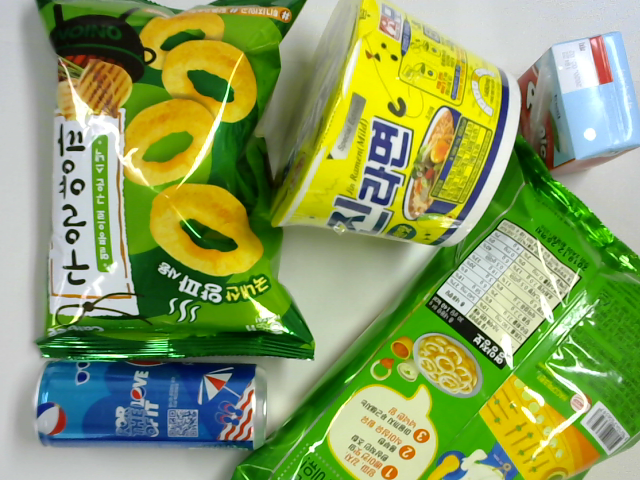Grilled_Onions: (32, 1, 316, 358)
Jinlamyeon_Mild_Taste_Large_Cup: (270, 1, 523, 247)
Oninon_Ring: (228, 135, 640, 478)
Pepsi_Cola_Can_250ml: (31, 359, 268, 452)
Picnic_Apple: (517, 32, 640, 181)
